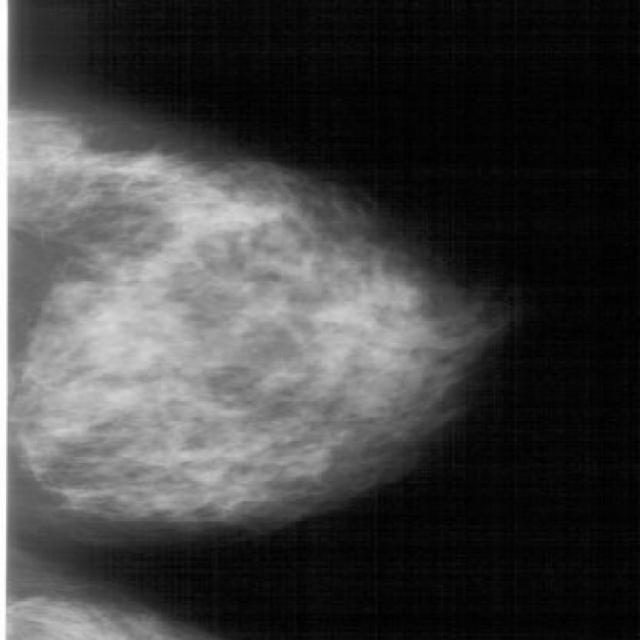tumor: (25, 192, 412, 467)
